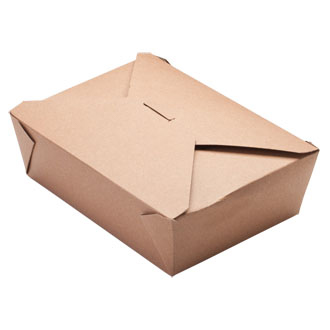Rec_Paper: (3, 44, 318, 272)
